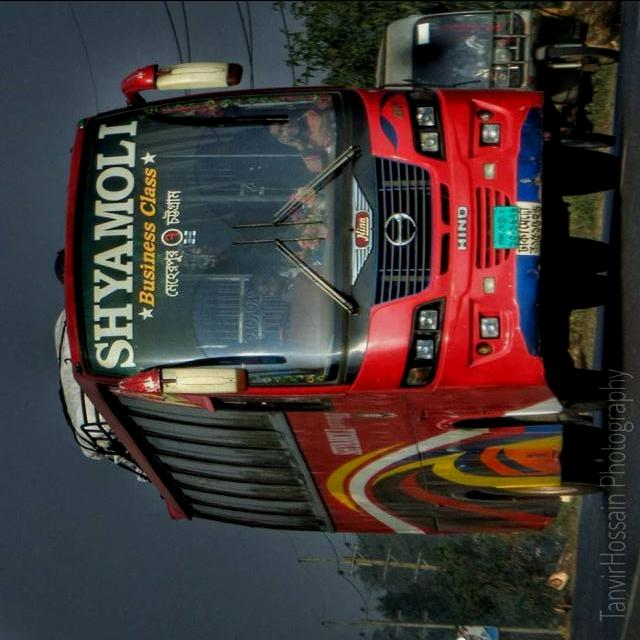bus: (54, 61, 624, 535)
